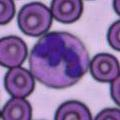N: (29, 30, 90, 88)
